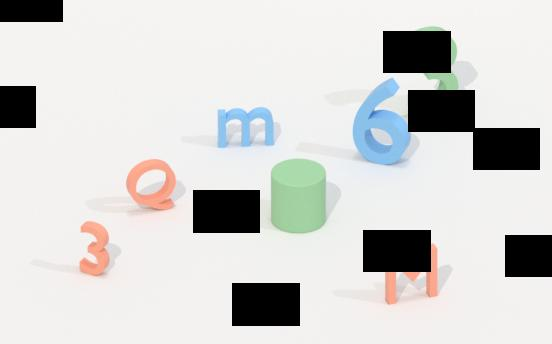3: (407, 25, 460, 118), (79, 218, 112, 277)
6: (352, 77, 413, 167)
M-hoa: (385, 243, 440, 308)
m: (215, 106, 277, 150)
q: (125, 158, 179, 214)
tru: (268, 157, 328, 235)
